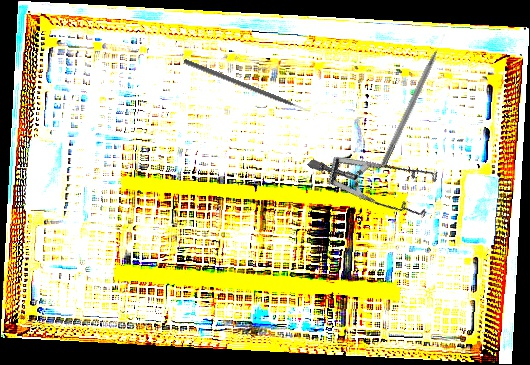Hook Surgical: (380, 32, 449, 168), (182, 58, 312, 116)
Speculum: (307, 102, 454, 252)
